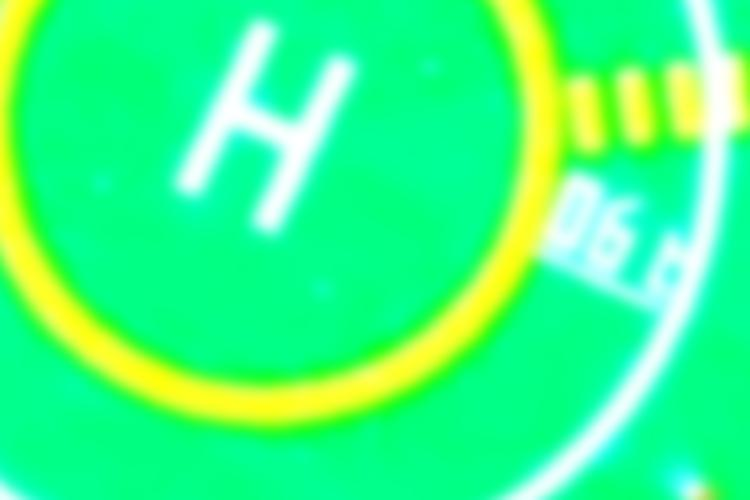Apron: (1, 1, 558, 427)
